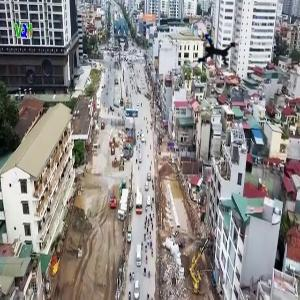drone: (185, 25, 238, 78)
